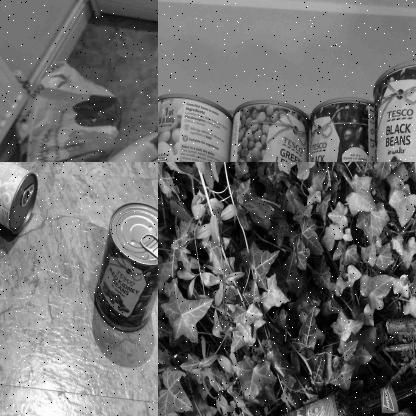metal: (95, 201, 157, 333), (158, 96, 230, 161), (231, 102, 310, 161), (372, 57, 415, 161), (309, 96, 376, 161), (0, 162, 38, 238)
plastic: (249, 370, 415, 415)
